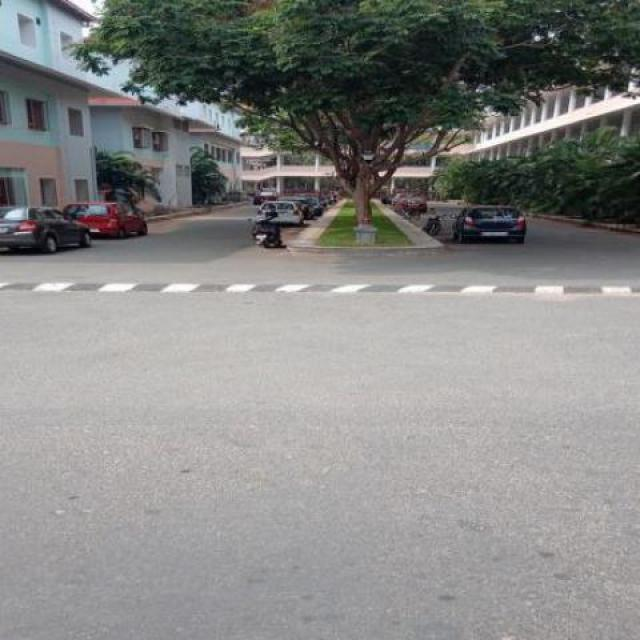Speed Bump: (0, 280, 639, 296)
